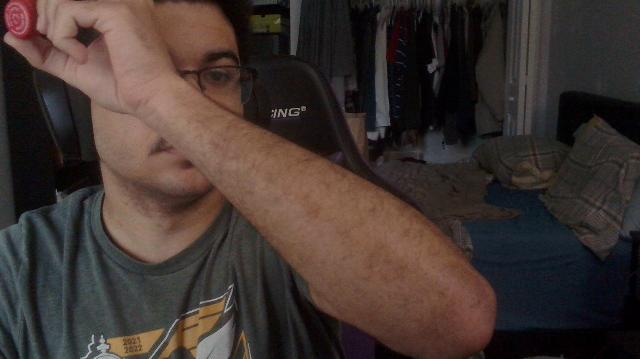cap: (4, 0, 36, 38)
